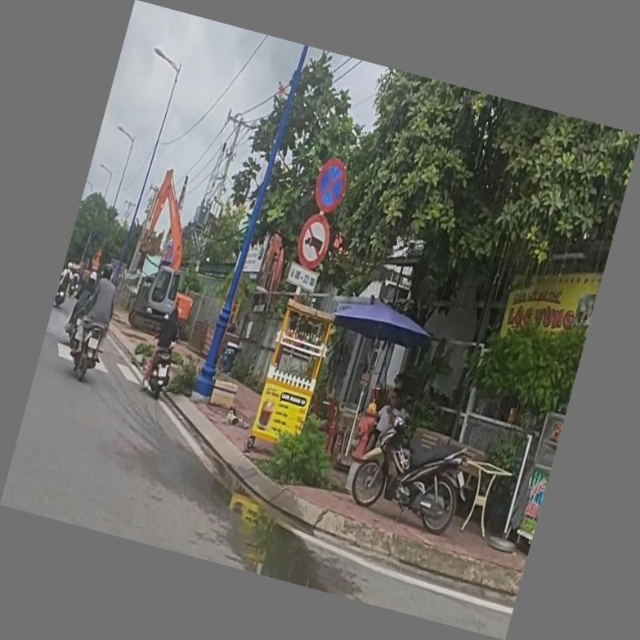B.8a: (291, 211, 335, 272)
P.130: (310, 154, 353, 215)
